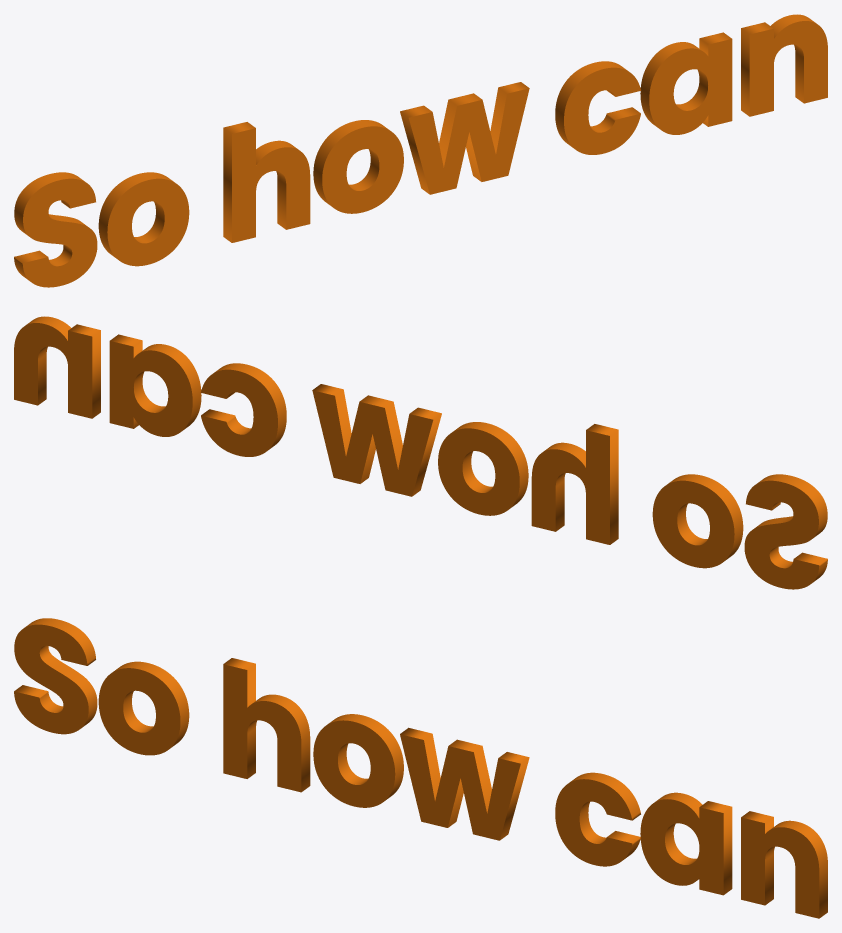
File: yazi1.gltf
3 renders of one model, top to bottom at view 1: azimuth 30°, elevation 25°; view 2: azimuth 150°, elevation 25°; view 3: azimuth 330°, elevation 25°, orthographic.
Visible parts, largest first — view 1: Text.016; view 2: Text.016; view 3: Text.016.
Part boxes in pixels (left/top/right/bottom): Text.016: left=14, top=14, right=827, bottom=287; Text.016: left=14, top=316, right=827, bottom=589; Text.016: left=14, top=618, right=827, bottom=918.
Size of the model in its own units: 0.2308 by 0.0302 by 0.00435.
